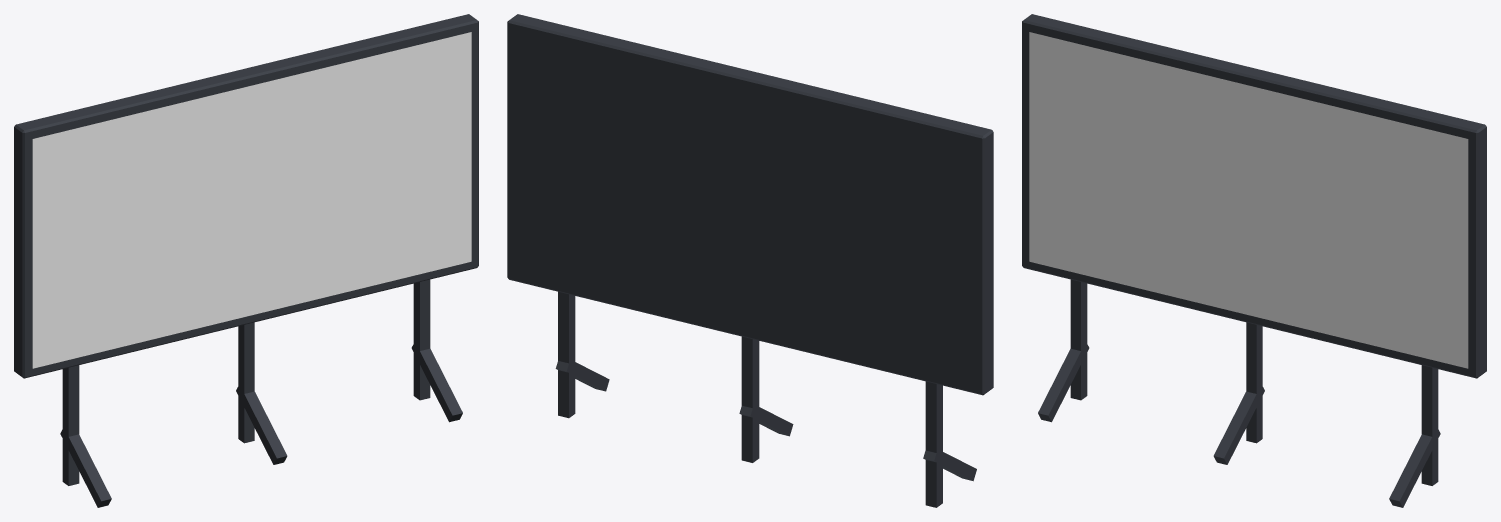
File: billboard_rooftop.fbx
3 renders of one model, left to right at view 1: azimuth 30°, elevation 25°; view 2: azimuth 150°, elevation 25°; view 3: azimuth 330°, elevation 25°, orthographic. The views are drawn at different scales.
Parts seen in each view (by area): view 1: billboard_rooftop; view 2: billboard_rooftop; view 3: billboard_rooftop.
Part boxes in pixels (x1,y1,x2,y2): billboard_rooftop: (14,14,478,507); billboard_rooftop: (507,14,993,507); billboard_rooftop: (1022,14,1486,507).
Size of the model in its own units: 5.2 by 4 by 0.8106.
Materials: 2 (1 with a texture image).
